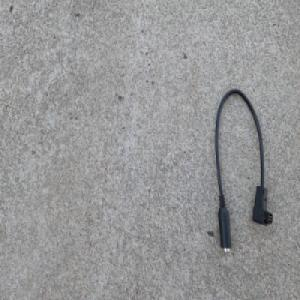Wire: (213, 84, 273, 252)
